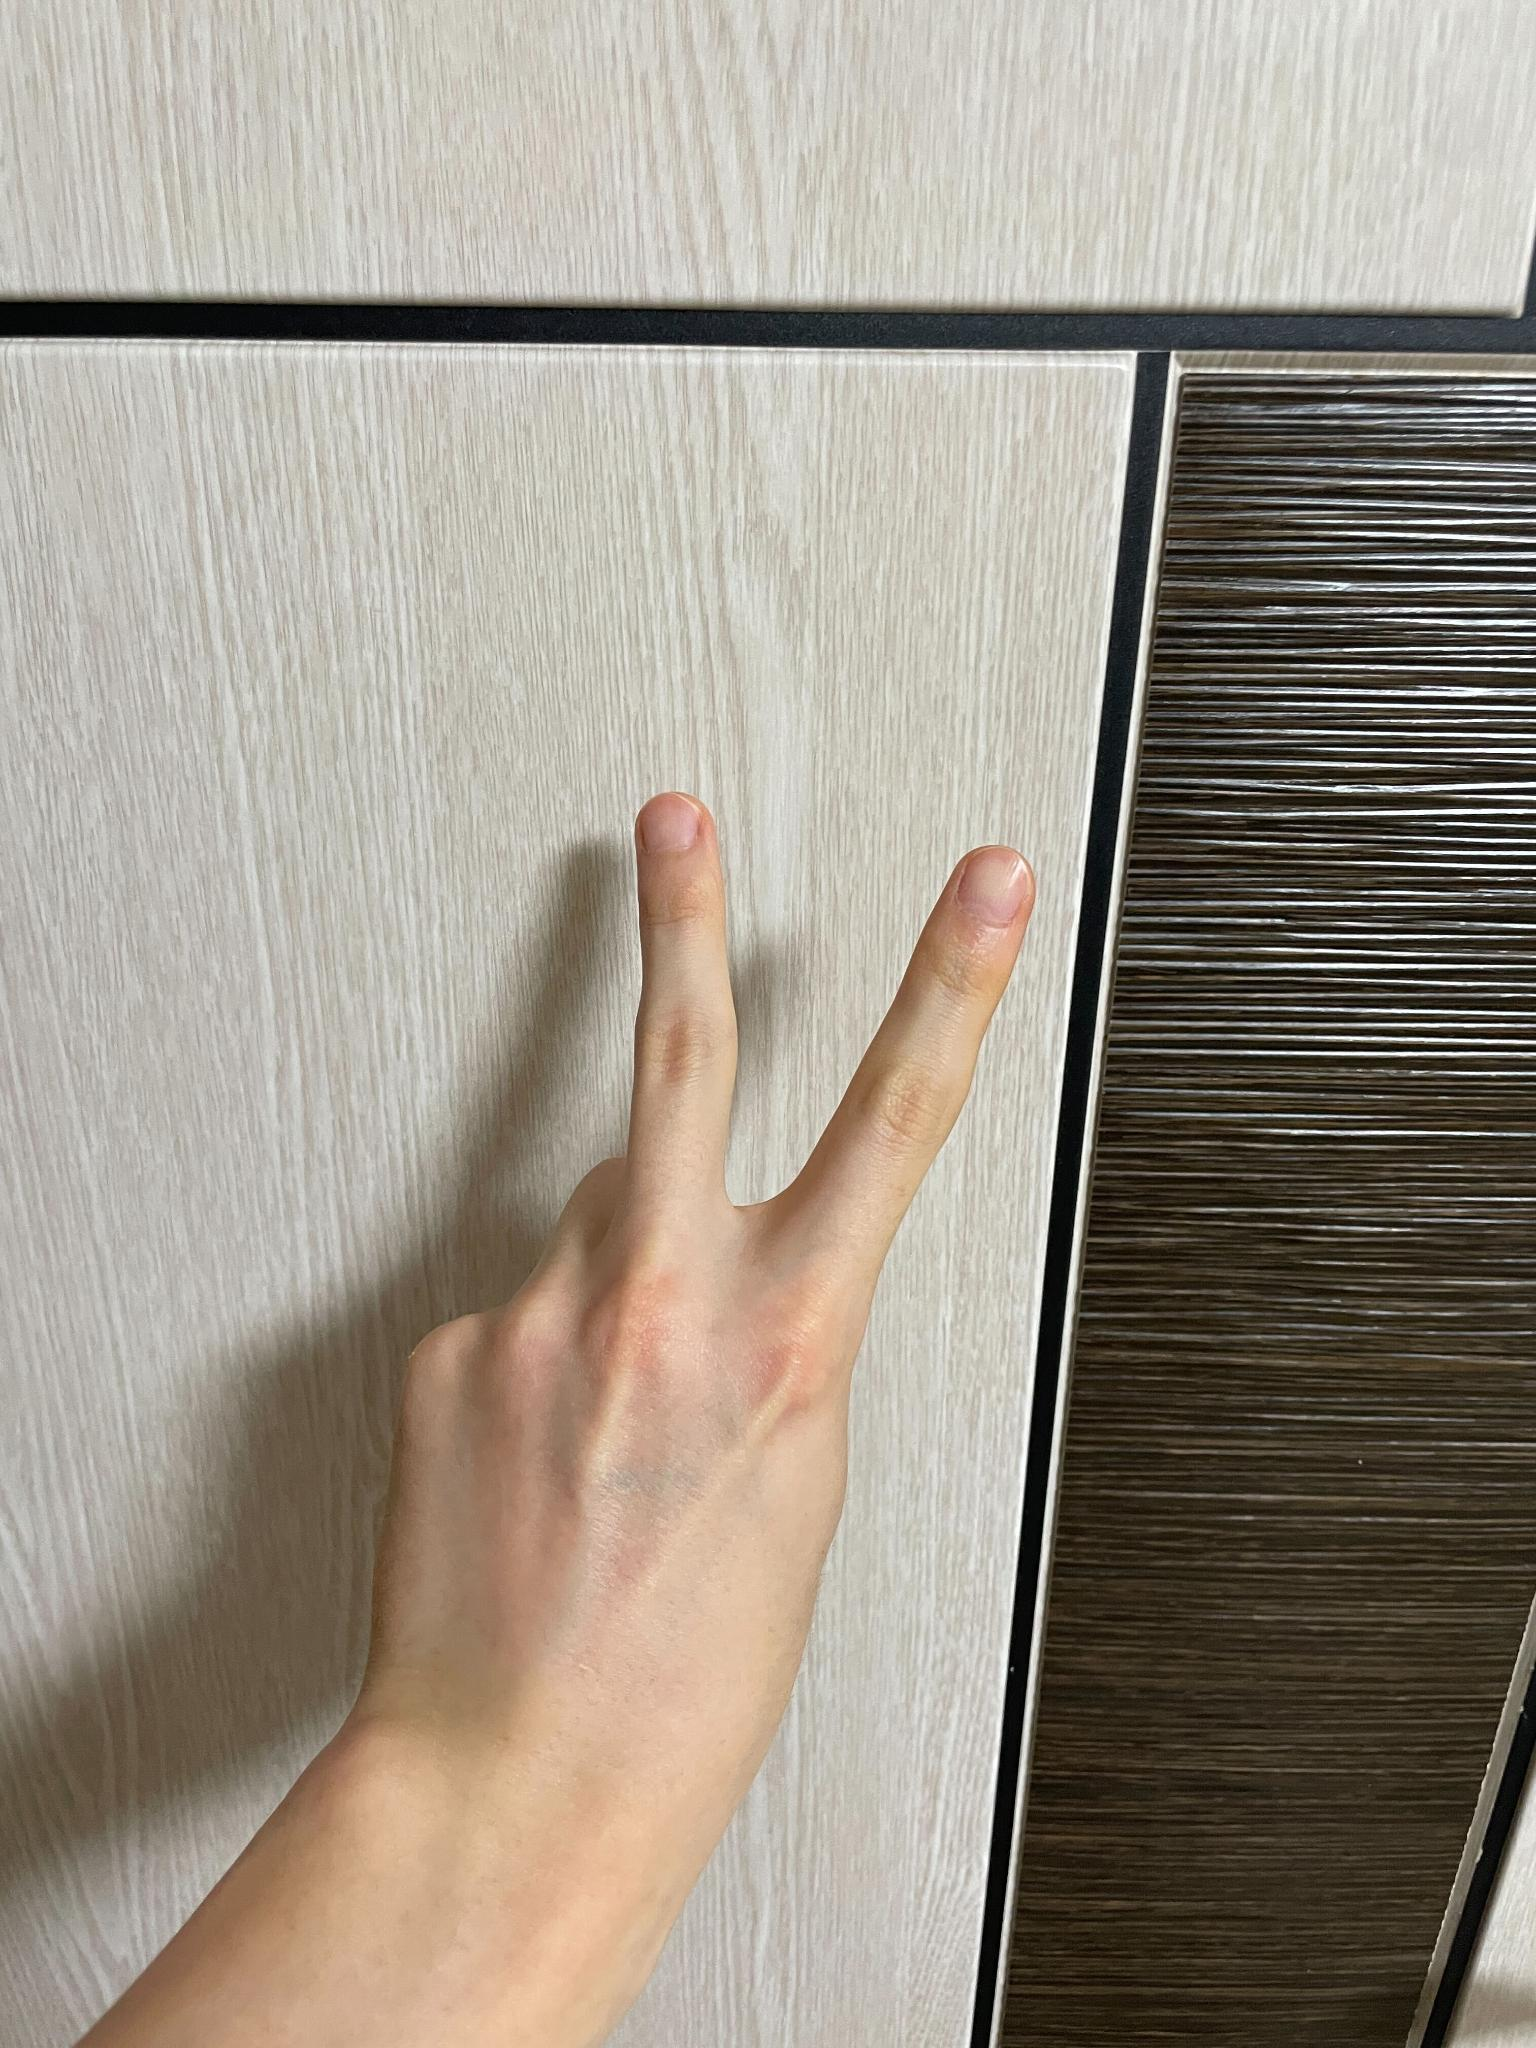v: (323, 779, 1041, 1963)
